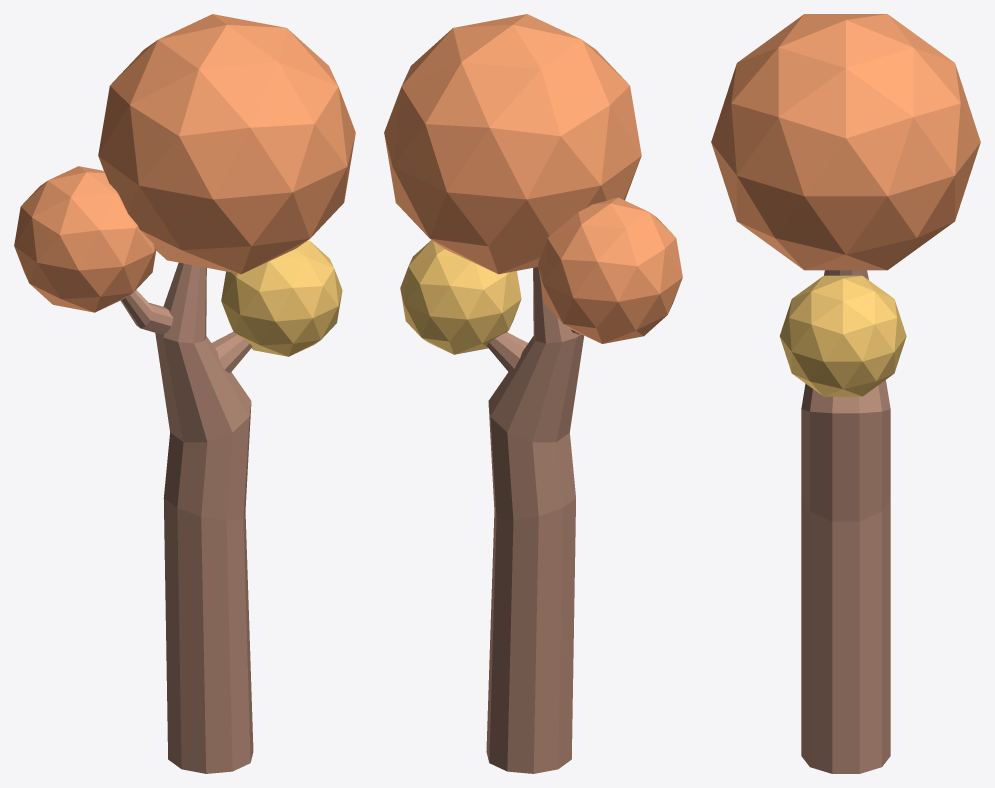
The model's file is tree.fbx.
3 renders of one model, left to right at view 1: azimuth 30°, elevation 25°; view 2: azimuth 150°, elevation 25°; view 3: azimuth 270°, elevation 25°, orthographic. The views are drawn at different scales.
Visible parts, largest first — view 1: Icosphere, Cylinder, Icosphere.001, Icosphere.002, Cylinder.003, Cylinder.002; view 2: Icosphere, Cylinder, Icosphere.001, Icosphere.002, Cylinder.002; view 3: Icosphere, Cylinder, Icosphere.002.
Boxes of the visible parts, <box> form: Icosphere: <box>98,14,355,274</box>; Cylinder: <box>155,262,253,773</box>; Icosphere.001: <box>14,166,155,312</box>; Icosphere.002: <box>221,240,342,356</box>; Cylinder.003: <box>120,290,173,334</box>; Cylinder.002: <box>211,332,252,373</box>; Icosphere: <box>384,14,641,274</box>; Cylinder: <box>486,267,583,773</box>; Icosphere.001: <box>538,197,682,343</box>; Icosphere.002: <box>400,240,521,354</box>; Cylinder.002: <box>487,332,528,372</box>; Icosphere: <box>711,14,980,270</box>; Cylinder: <box>801,270,890,773</box>; Icosphere.002: <box>779,275,906,396</box>.
Size of the model in its own units: 763 by 1838 by 604.
